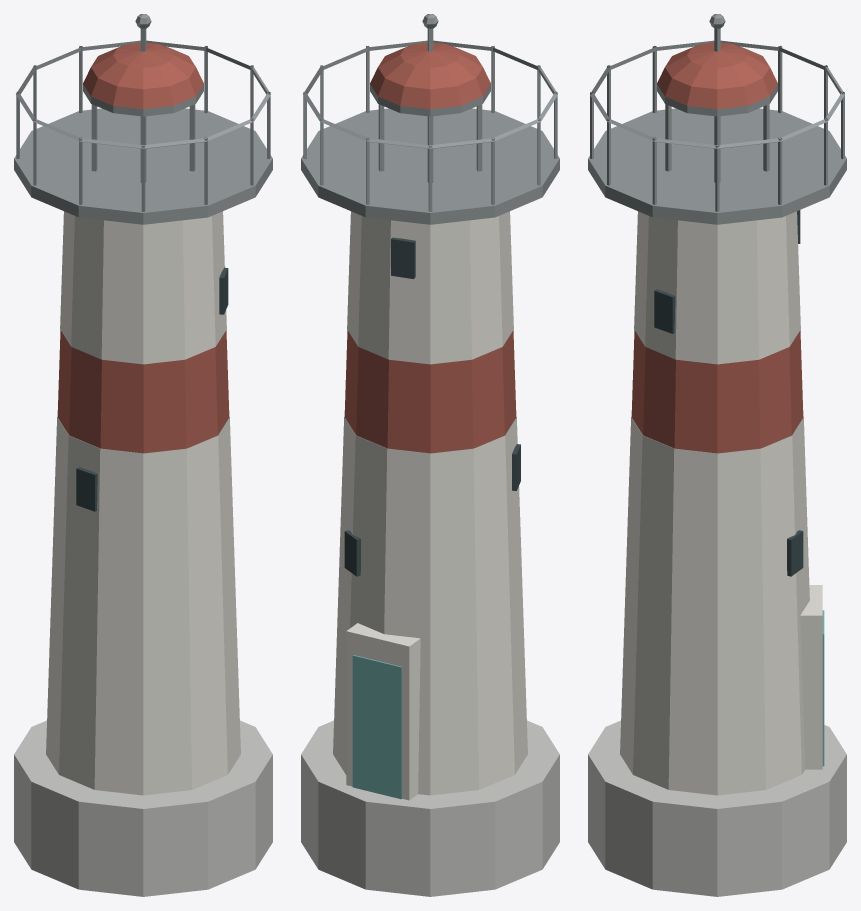
Rendered from isl_lighthouse.fbx.
The picture shows the model from 3 angles, left to right: view 1: azimuth 30°, elevation 25°; view 2: azimuth 150°, elevation 25°; view 3: azimuth 270°, elevation 25°; orthographic projection.
Visible parts, largest first — view 1: isl_lighthouse; view 2: isl_lighthouse; view 3: isl_lighthouse.
Boxes of the visible parts, box(x1,y1,x2,y2) form: isl_lighthouse: box(14, 14, 272, 896); isl_lighthouse: box(301, 14, 559, 896); isl_lighthouse: box(588, 14, 846, 896).
Size of the model in its own units: 3.2 by 11.3 by 3.2.
